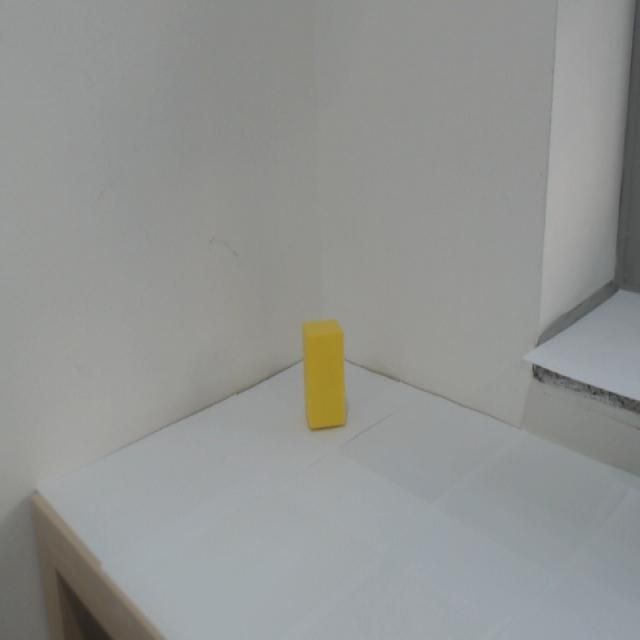cube: (296, 309, 363, 449)
